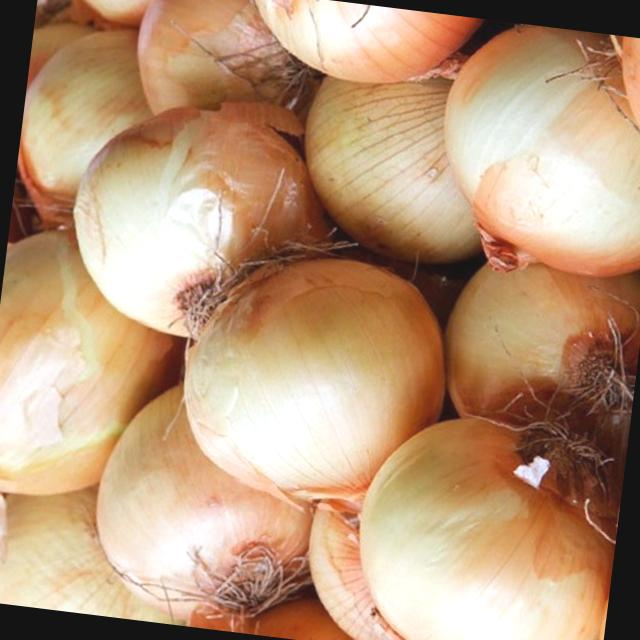onion: (154, 240, 443, 524), (346, 395, 624, 640), (64, 97, 322, 356), (425, 14, 640, 295), (82, 382, 320, 626)
